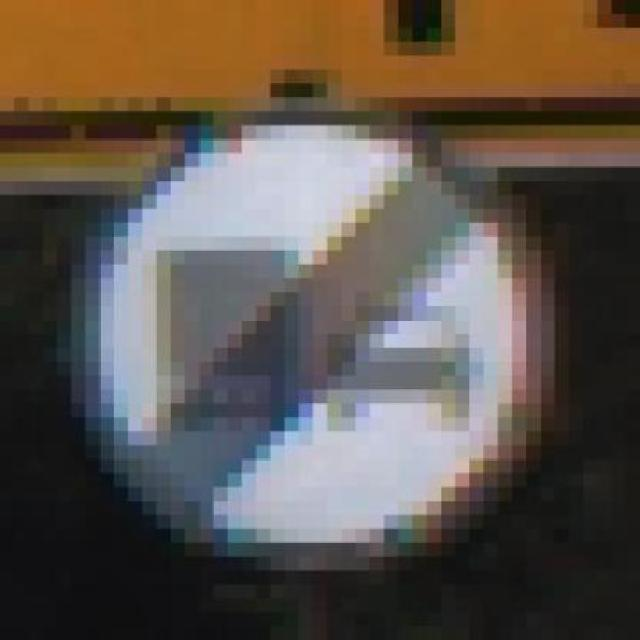Overtaking by trucks is prohibited: (71, 56, 583, 598)
